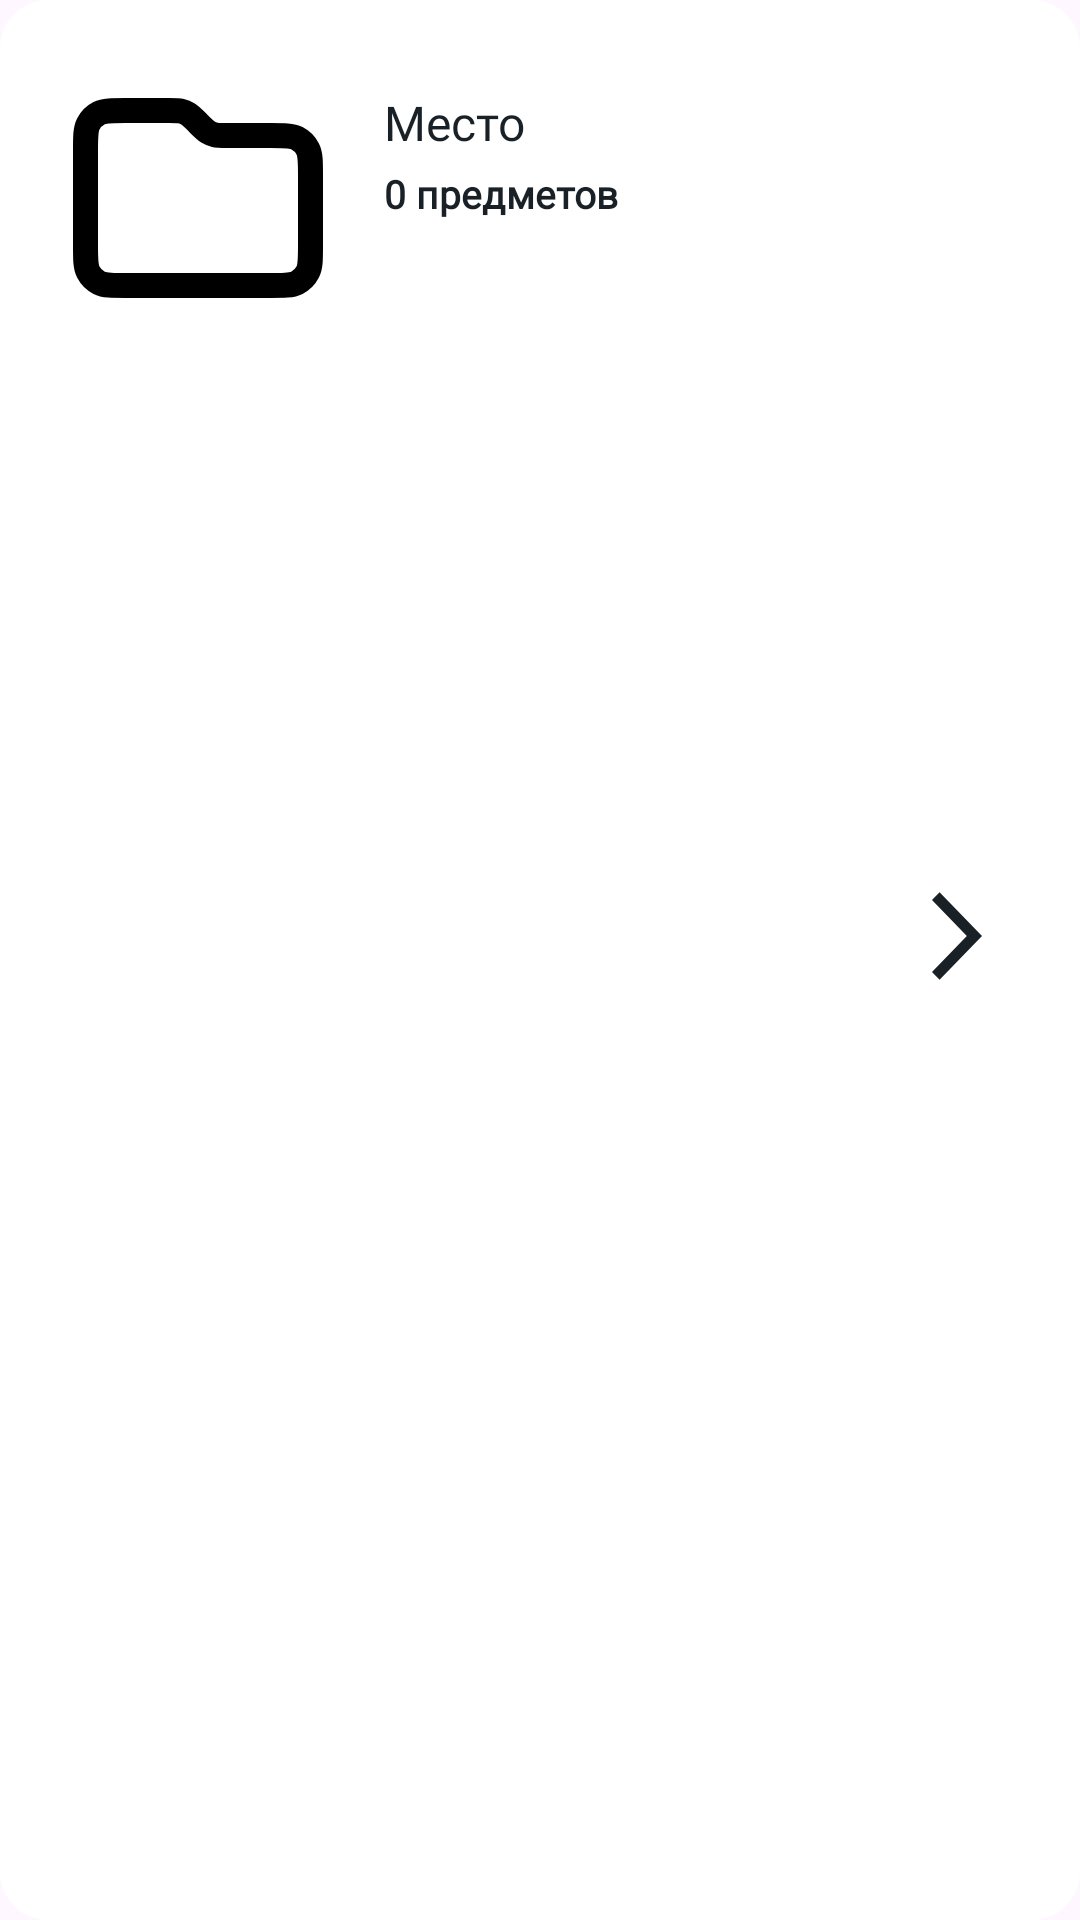

Named icons in this screenshot (1080px×1920px) and their centers, [x,y]:
arrow: [957,936]
folder: [198,198]
